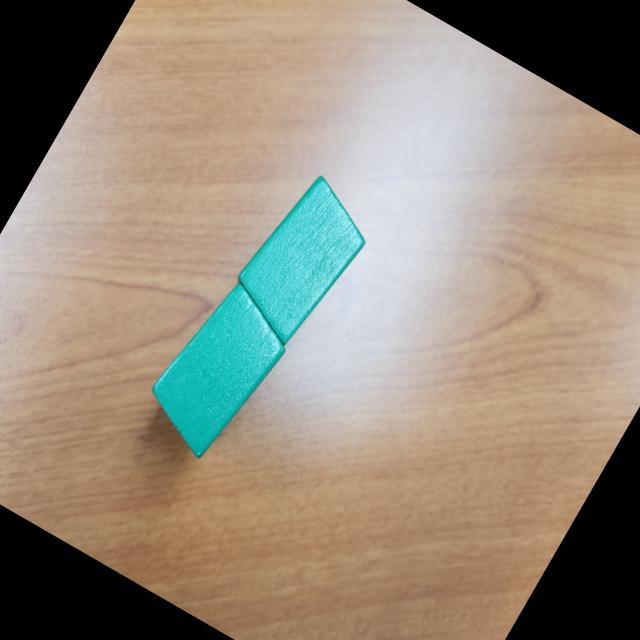green: (131, 270, 307, 472), (217, 162, 385, 356)
